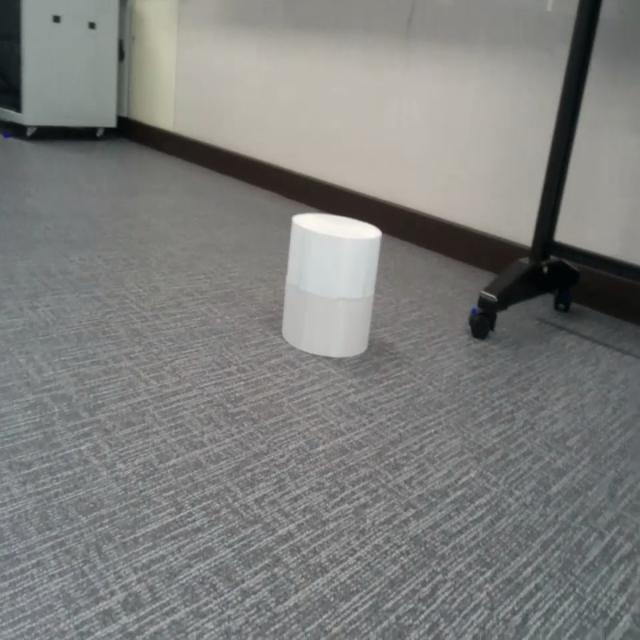cylinder: (281, 212, 382, 358)
